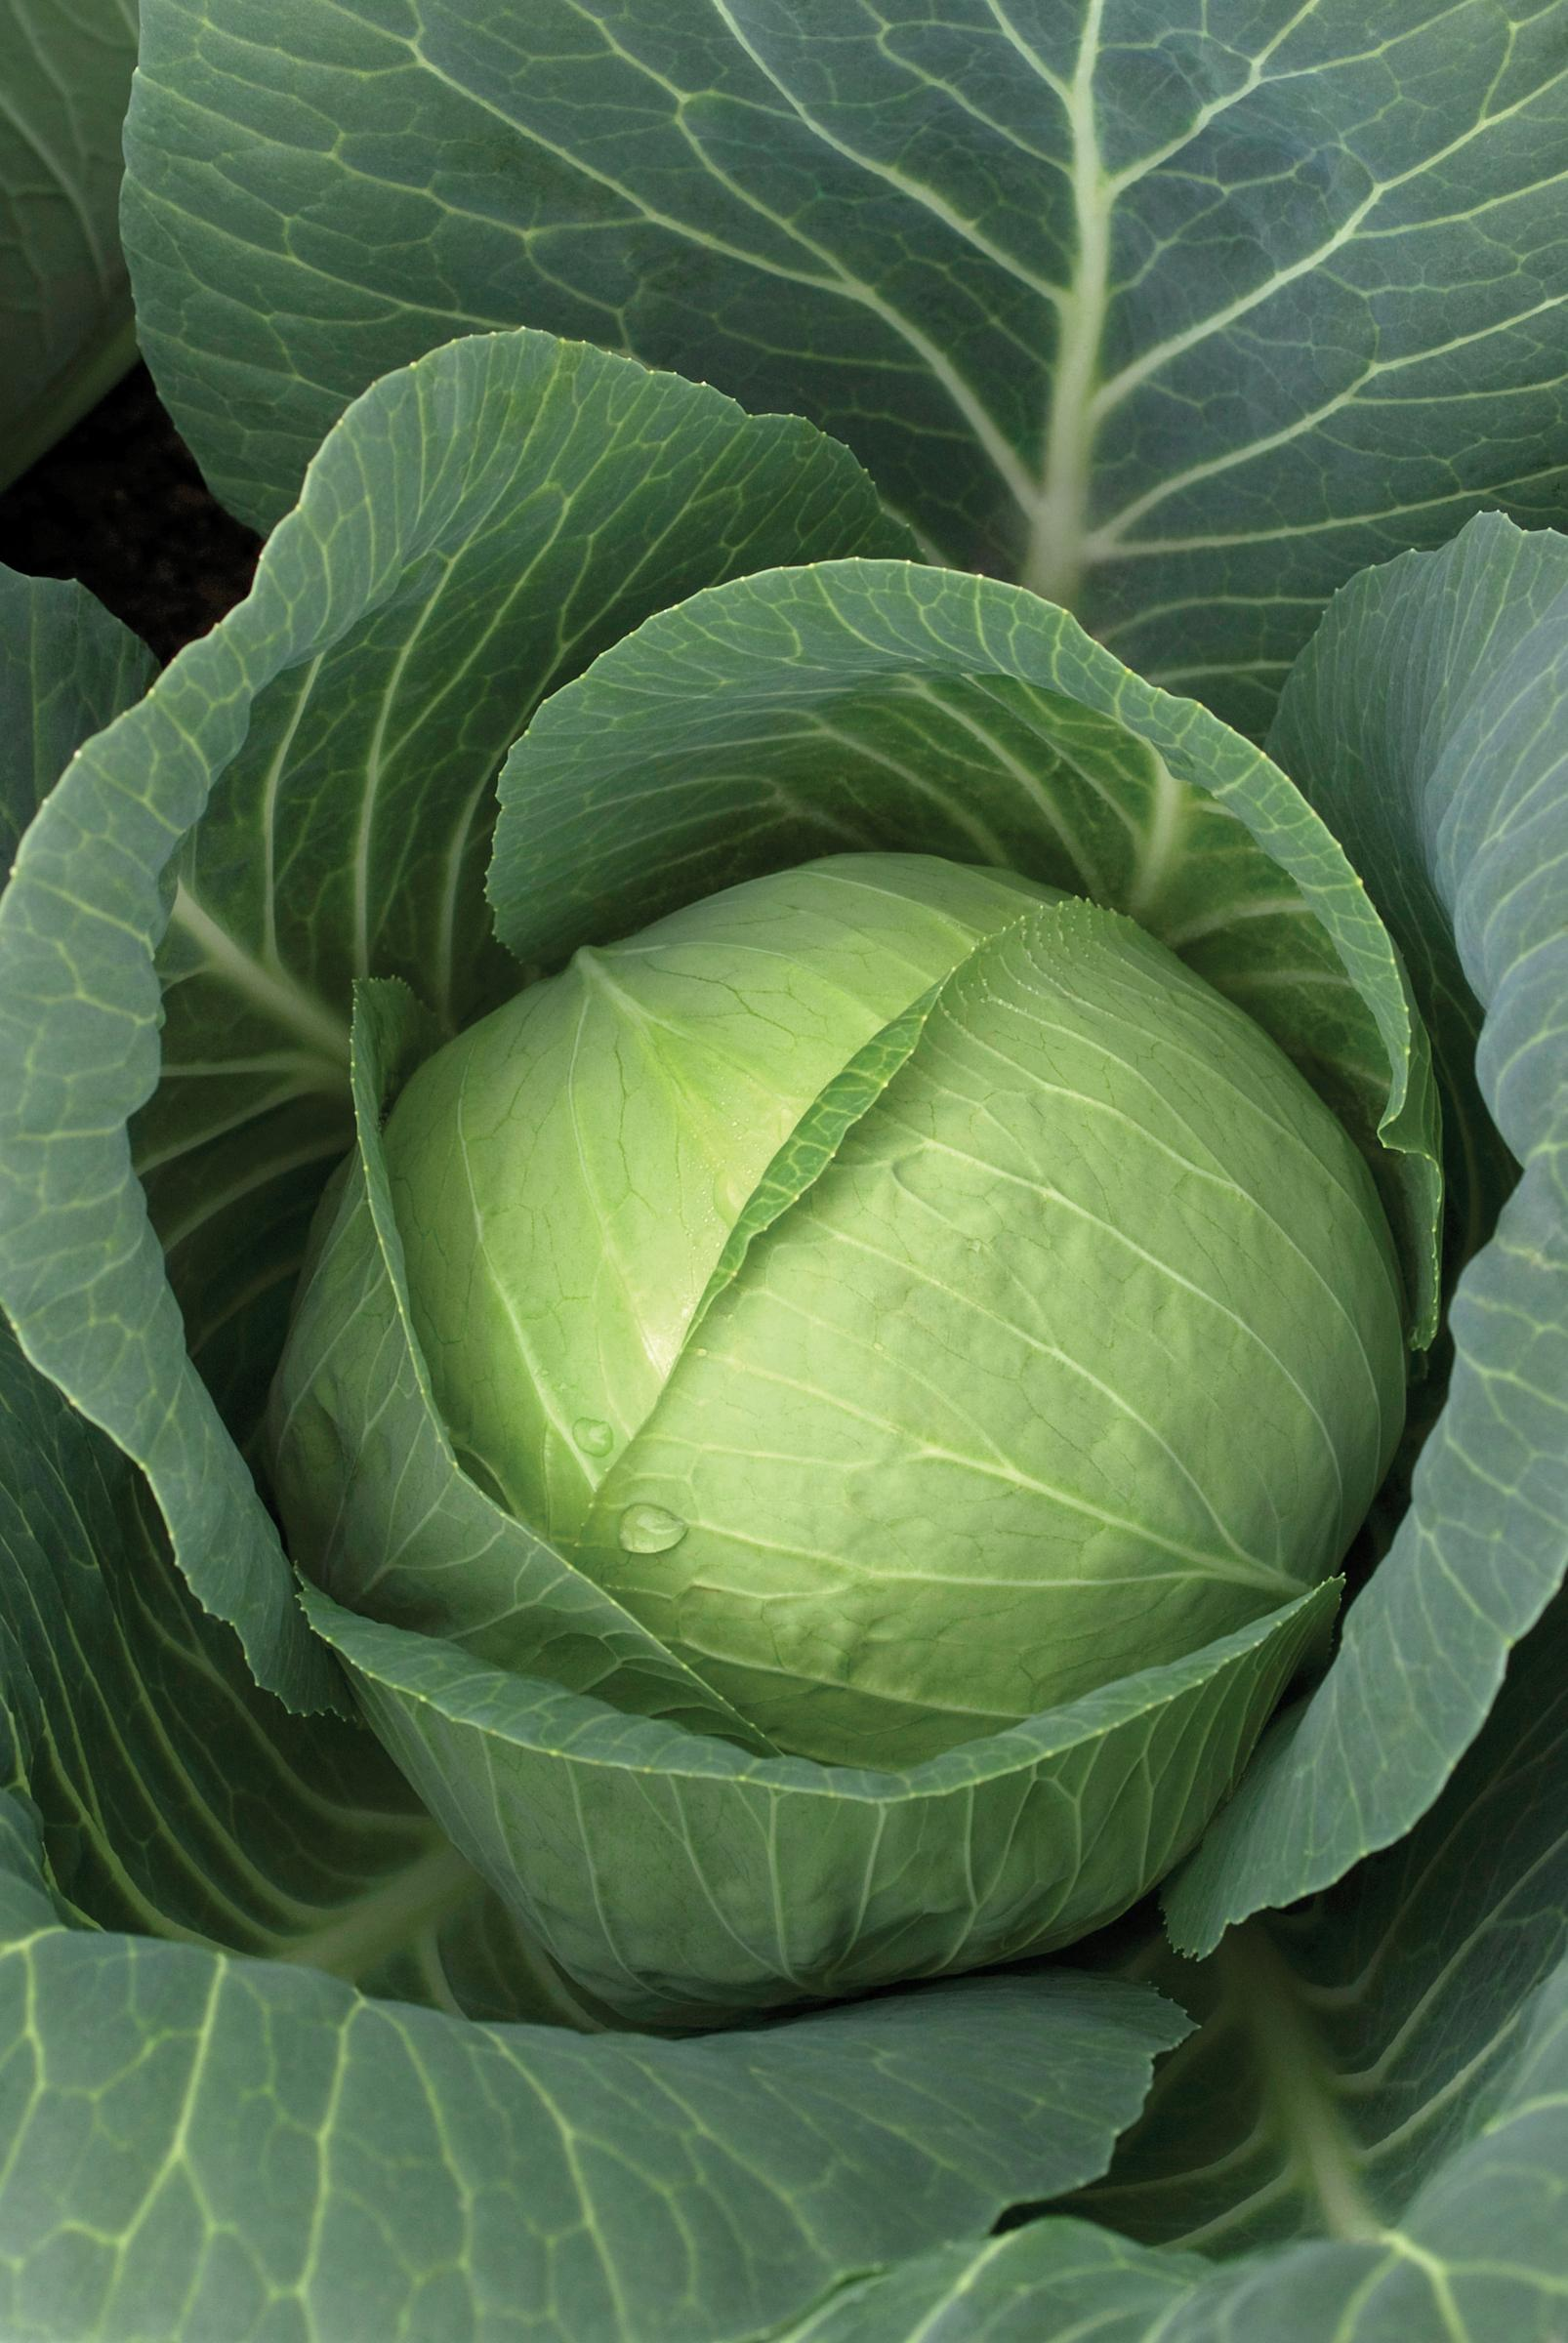cabbage: (4, 314, 1562, 2332), (255, 840, 1416, 2023)
